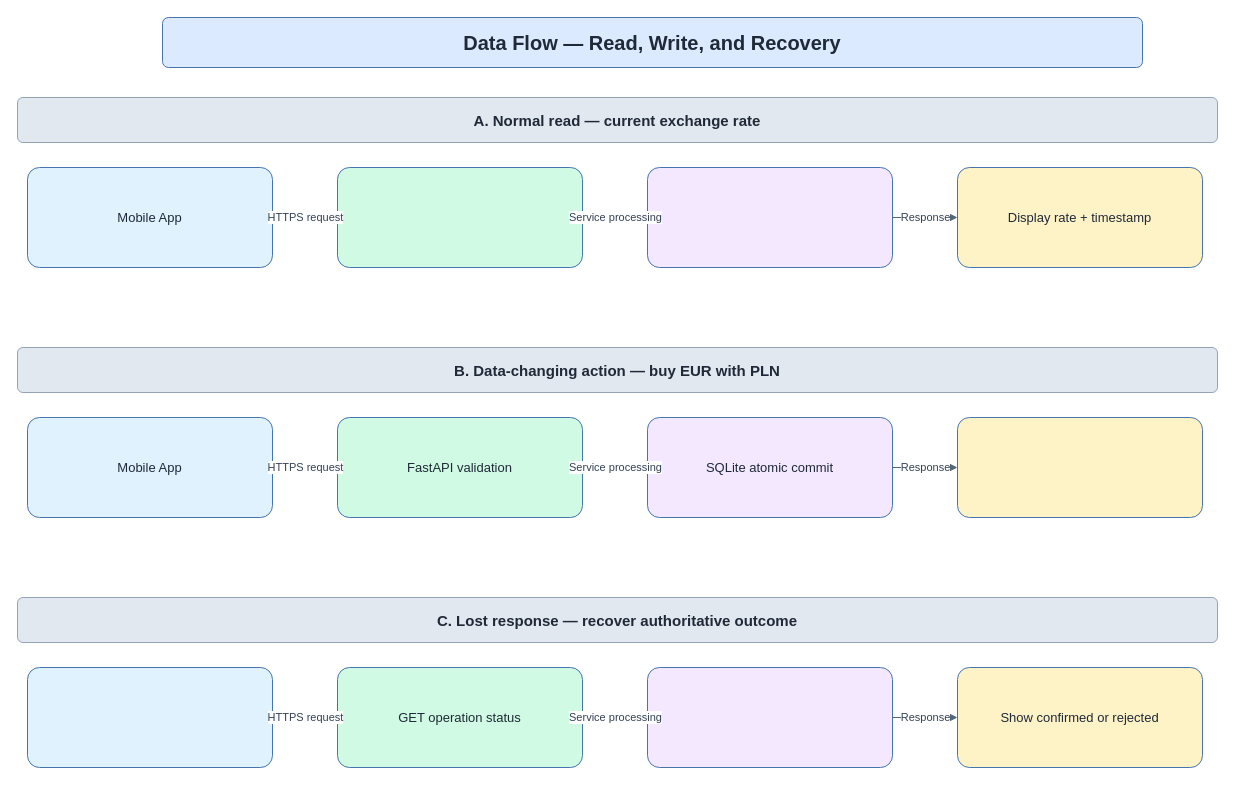
Some shapes in this 1235 by 785 pixel diagram are drawn without their labels. Here are the shapes that lost their labels. From the top down, the centre of each, then its label:
pixel 459 217: FastAPI Service
pixel 769 217: NBP API
pixel 1079 467: Confirmed balance + history
pixel 149 717: App: pending / unknown
pixel 769 717: Server checks operation ID
